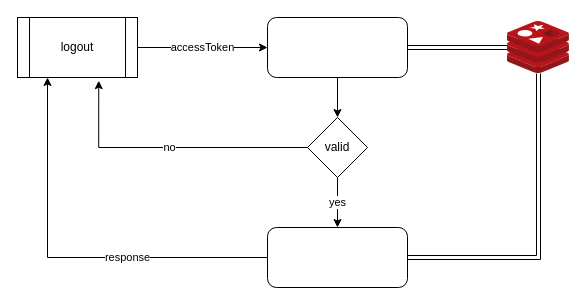
This 587x305 diagram has some shape labels left out. The shapes that lost their labels are listed below. From the top down, each one's box as (x1, y1, x2, y2) in pixels, then its label:
(266, 16, 408, 78): Verifies if token is invalidated by logout or password change
(266, 226, 408, 288): Invalidate the current token
